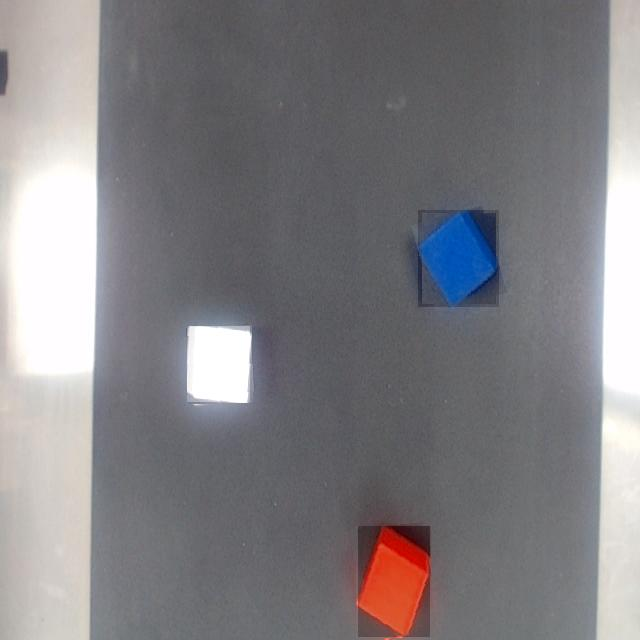Azul: (418, 210, 499, 307)
Blanco: (188, 327, 250, 402)
Rojo: (359, 527, 430, 637)
